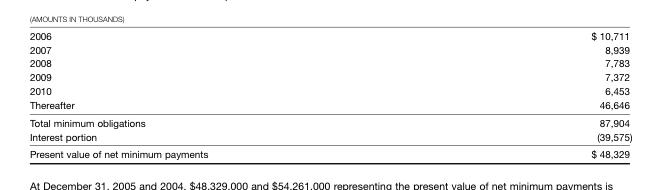table: (28, 29, 631, 159)
table column: (28, 29, 398, 159), (398, 29, 631, 159)
table row: (28, 97, 631, 113), (28, 128, 631, 144), (28, 113, 631, 128), (28, 144, 631, 159), (28, 41, 631, 55), (28, 55, 631, 69), (28, 69, 631, 83), (28, 83, 631, 97), (28, 29, 631, 41)
